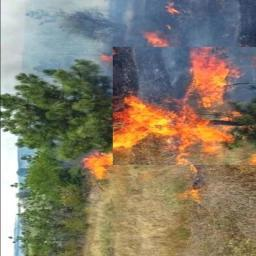Low smoke: (12, 0, 256, 97)
Medium fire: (96, 39, 253, 193)
